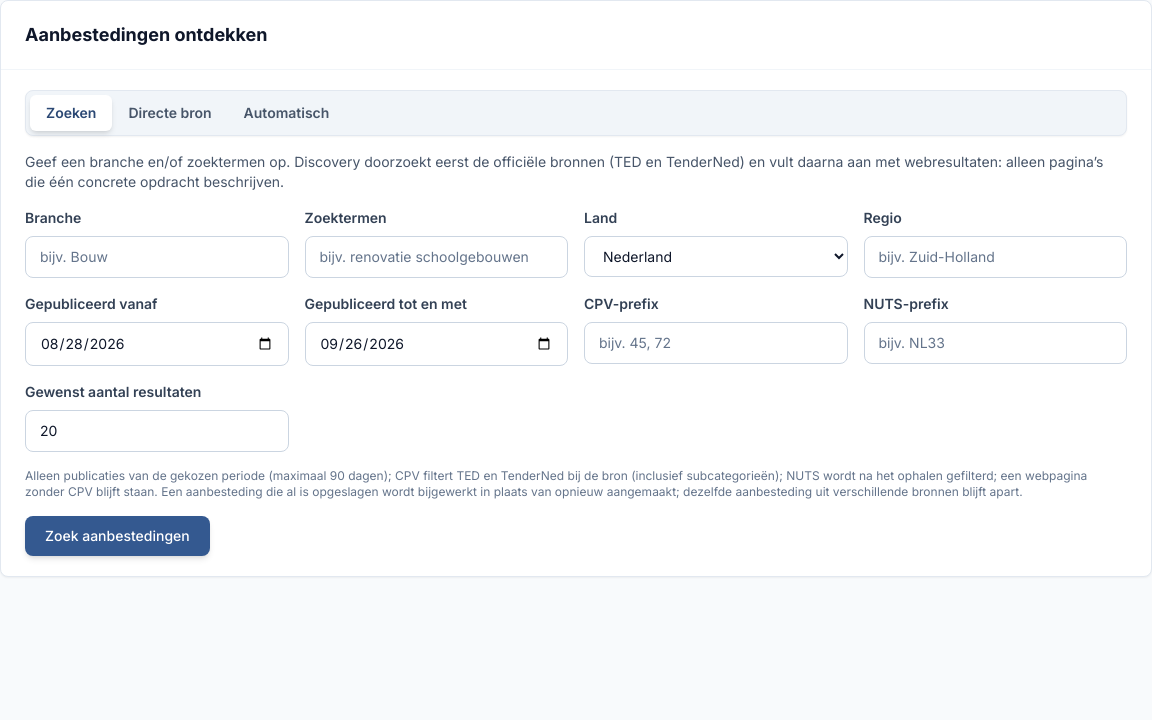
Scenario: TenderRunPanel › shows the message of the server when the API refuses (for instance a disabled module)
Type "Bouw" into the field labelled "Branche".
click(157, 257); type("Bouw")  # box [25,236,288,278]
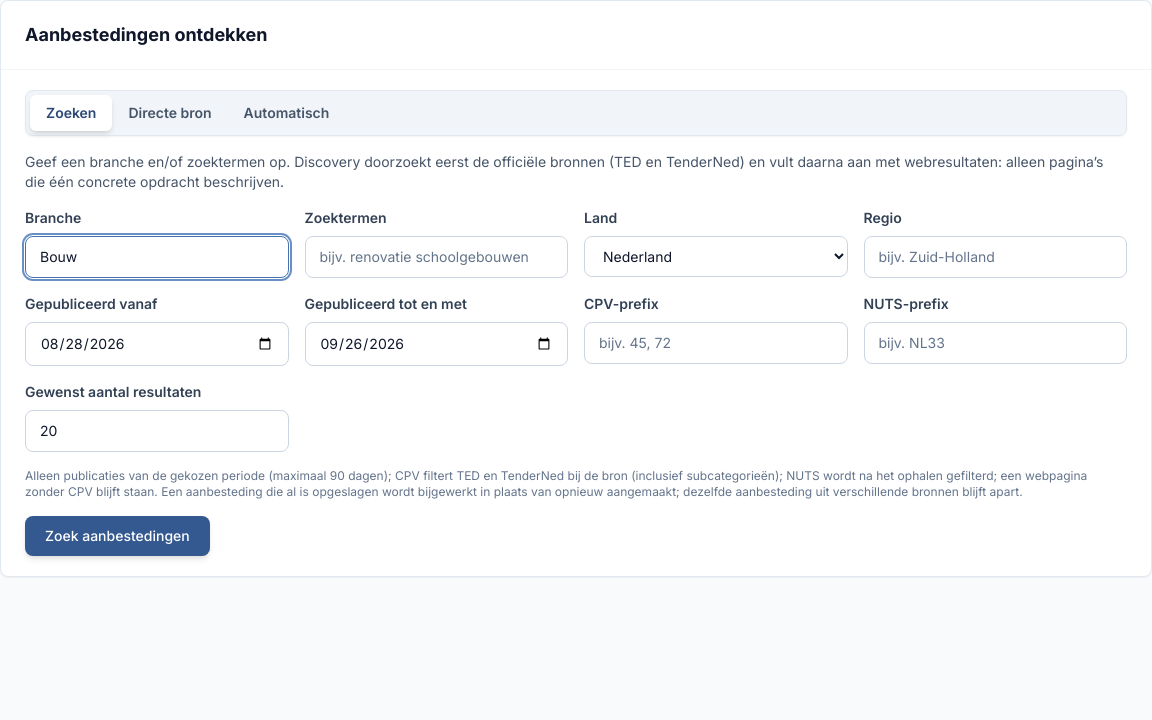
Click the button "Zoek aanbestedingen".
click(117, 536)  # box [25,516,210,556]
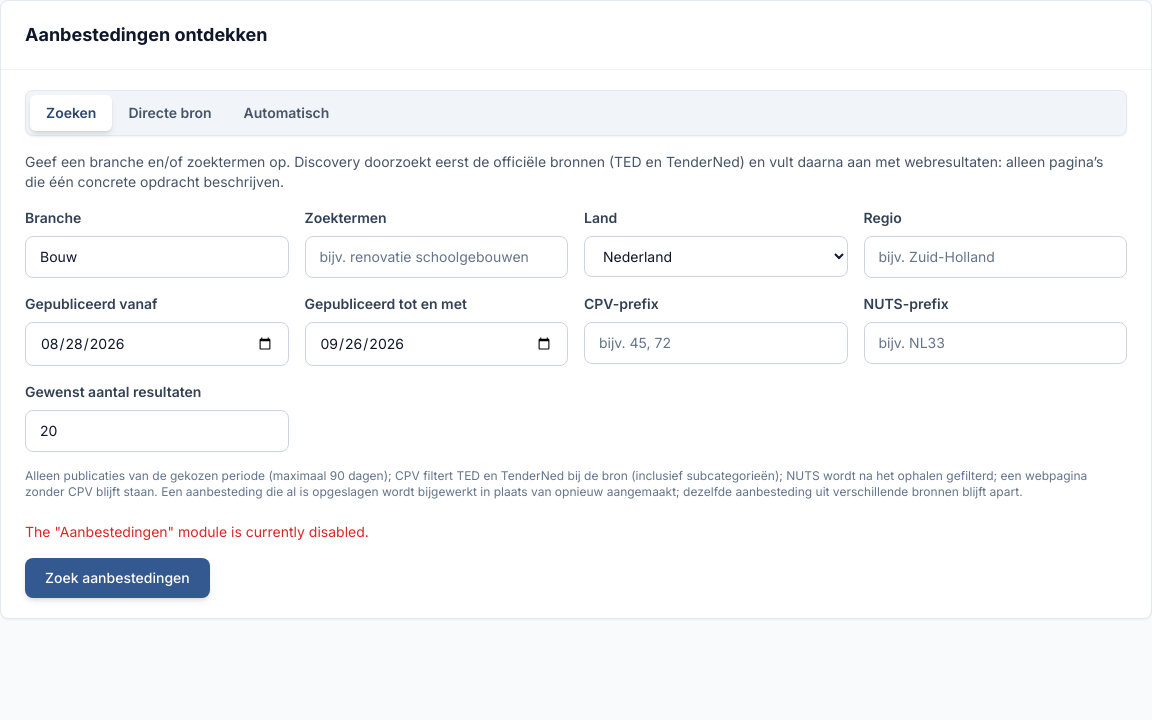
Expected: the button "Zoek aanbestedingen" is enabled, [25,558,210,598]
Now the text "The \"Aanbestedingen\" module is currently disabled." is shown, box [25,523,369,540]
